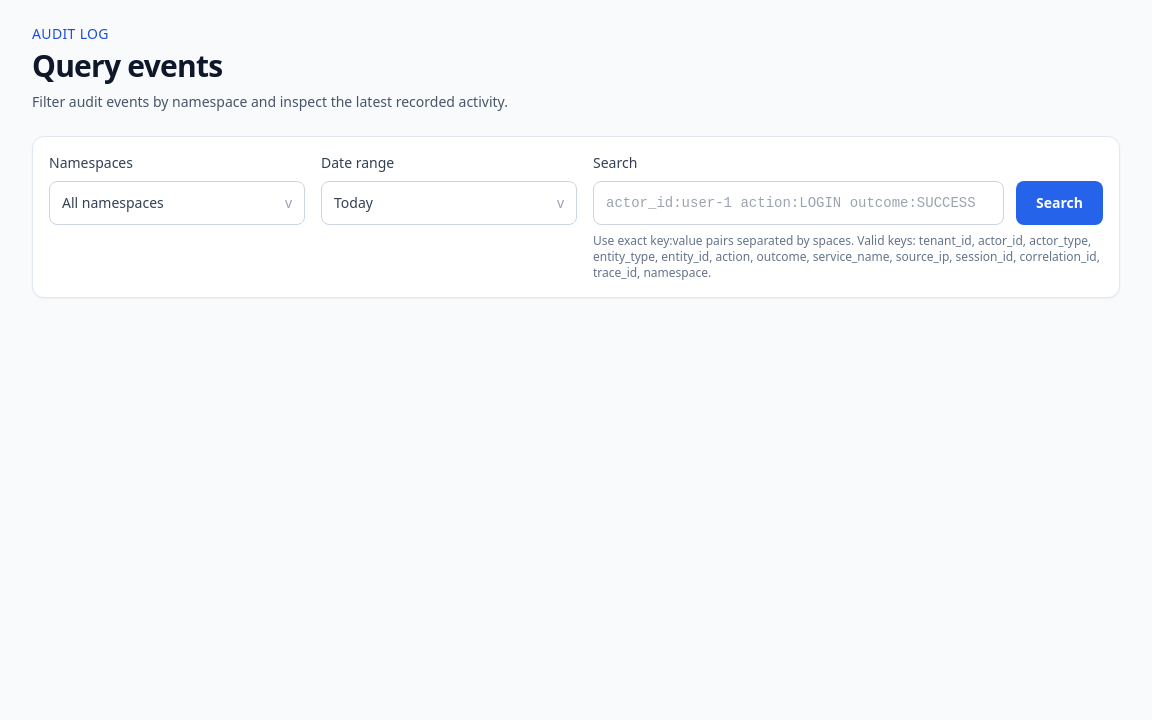
Test case: QueryPage namespace filter › keeps the namespace menu open after selecting an option and closes it on outside click
This screenshot has width=1152, height=720.
Click the button "All namespaces v": {"x": 177, "y": 203} [49,181,305,225]
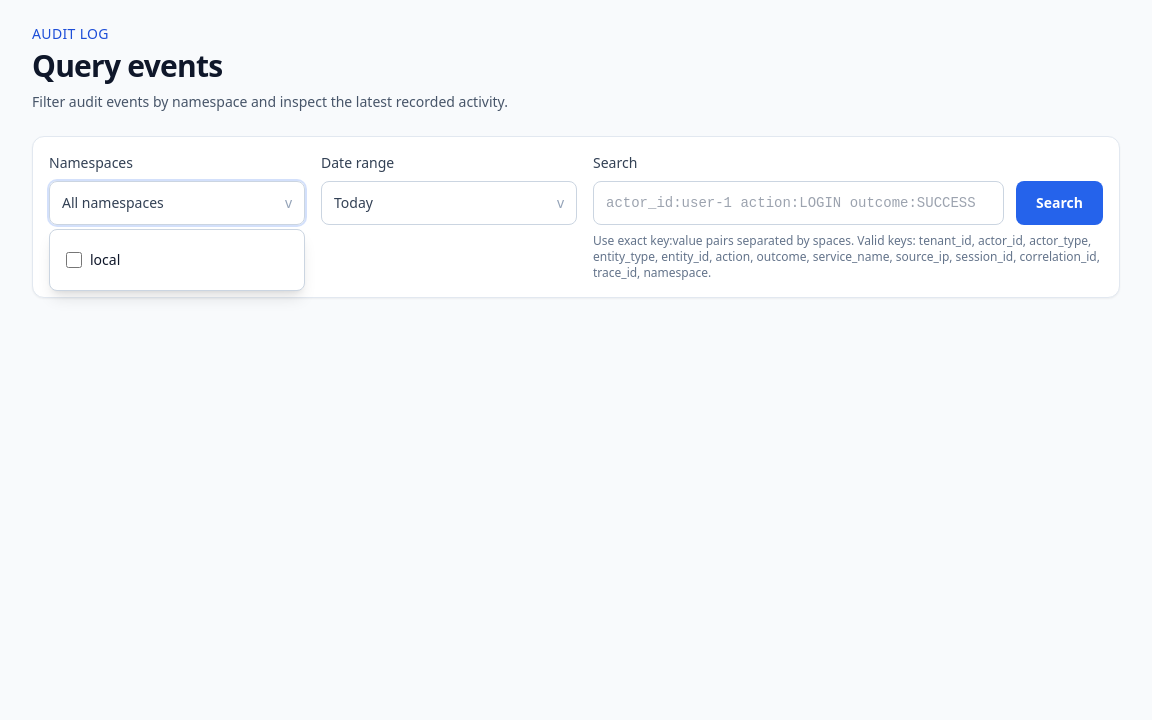
Click the checkbox labelled "local": {"x": 74, "y": 260} [66,252,82,268]
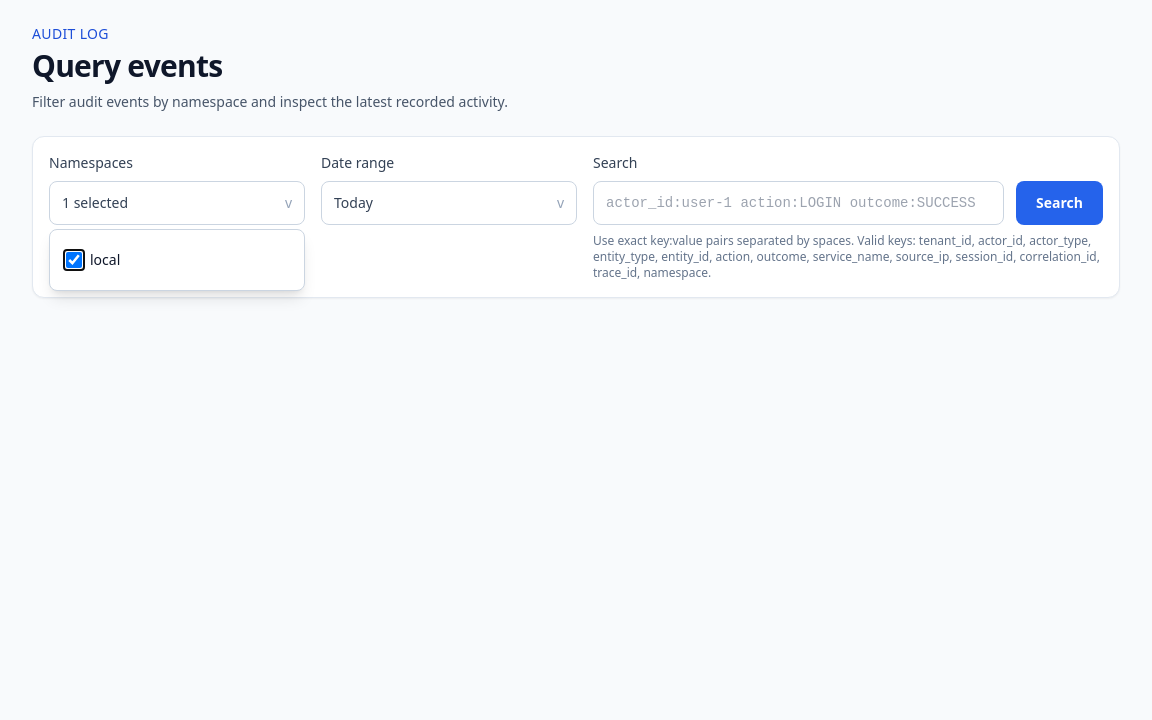
Expected: the checkbox labelled "local" is shown, [66,252,82,268]
Click the element that starts with "Audit Log": {"x": 576, "y": 360} [0,0,1151,719]
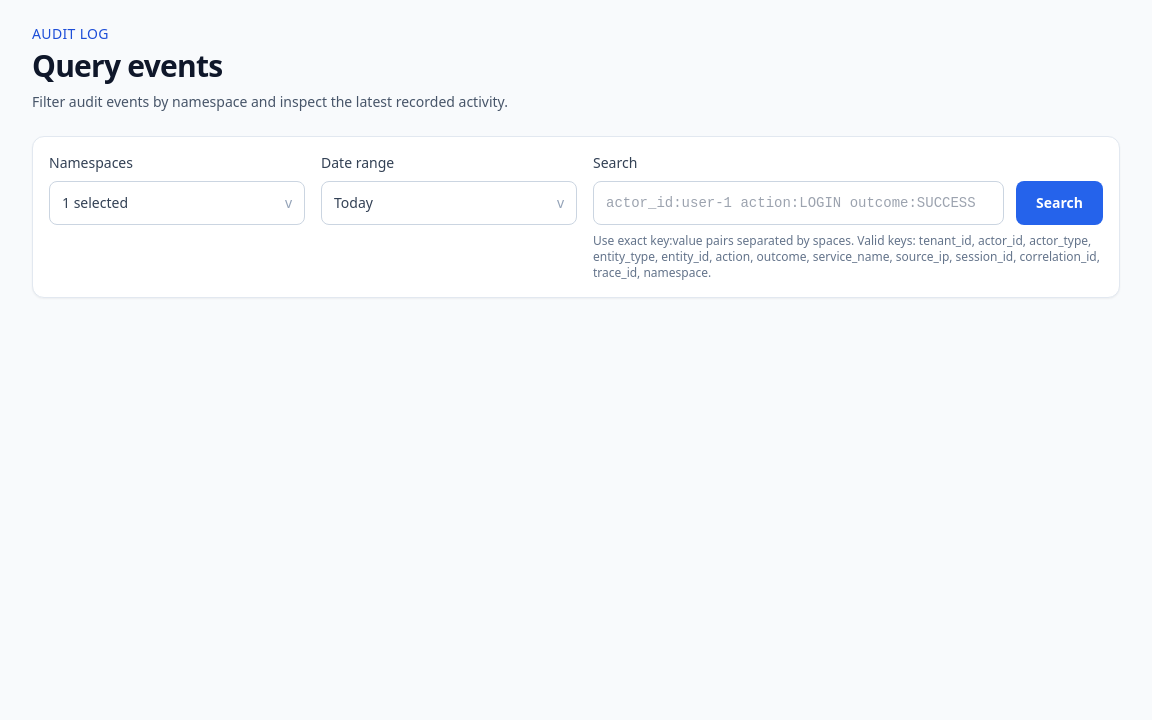
Expected: the text labelled "local" is gone
